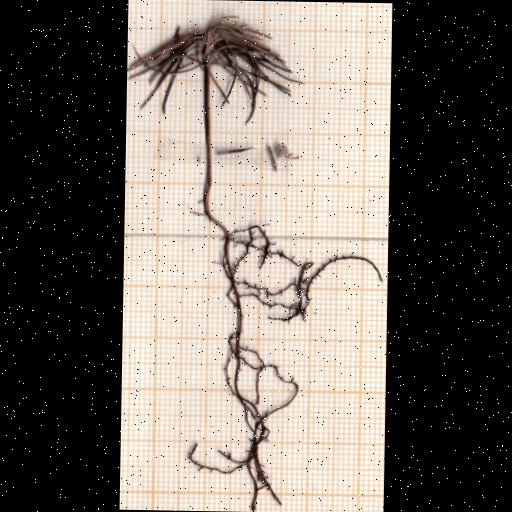flowerCedr: (127, 17, 290, 123)
rootCedr: (189, 210, 383, 511)
stemCedr: (204, 65, 212, 192)
